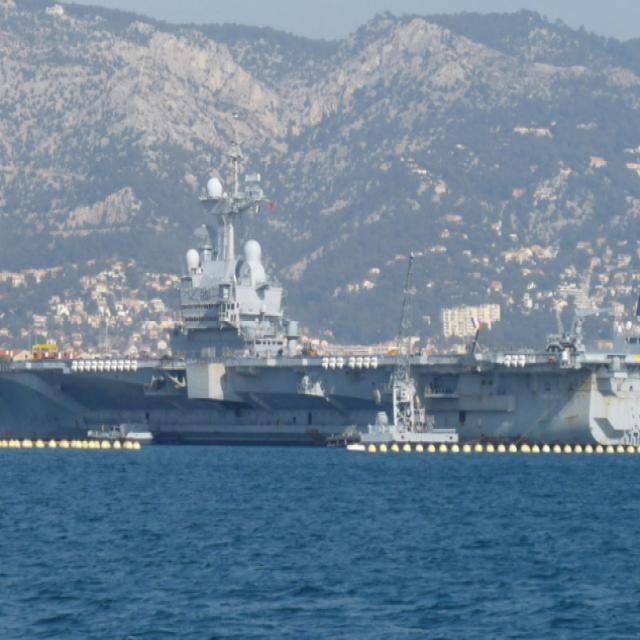Portanaves: (1, 141, 640, 457)
